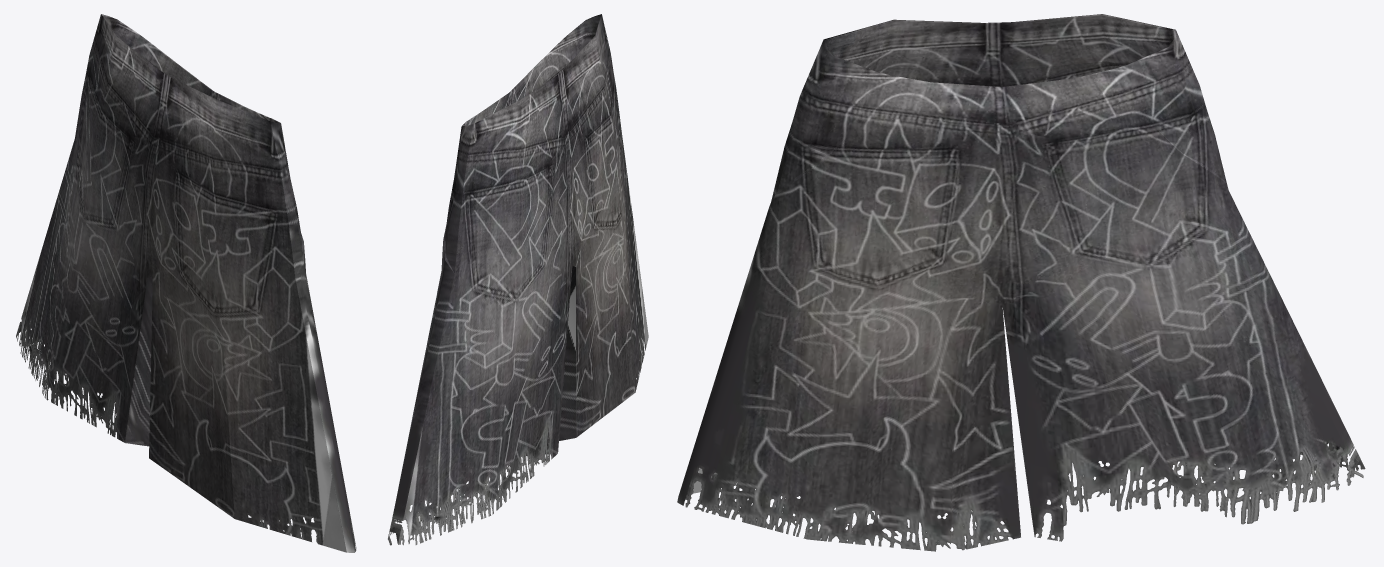
The model's file is illustrated-denim-shorts.glb.
The picture shows the model from 3 angles, left to right: view 1: azimuth 30°, elevation 25°; view 2: azimuth 150°, elevation 25°; view 3: azimuth 270°, elevation 25°; orthographic projection. The views are drawn at different scales.
Parts seen in each view (by area): view 1: A_Ch_NewFemale_Lo_ShortsD_010_Mesh%2E125-2_n3d; view 2: A_Ch_NewFemale_Lo_ShortsD_010_Mesh%2E125-2_n3d; view 3: A_Ch_NewFemale_Lo_ShortsD_010_Mesh%2E125-2_n3d.
Boxes of the visible parts, x1,y1,x2,y2 form: A_Ch_NewFemale_Lo_ShortsD_010_Mesh%2E125-2_n3d: (16,14,356,552); A_Ch_NewFemale_Lo_ShortsD_010_Mesh%2E125-2_n3d: (388,14,648,545); A_Ch_NewFemale_Lo_ShortsD_010_Mesh%2E125-2_n3d: (677,14,1365,551).
Bounding box in the file's own units: 0.0325 × 0.1258 × 0.1606.
Materials: 1 (1 with a texture image).
